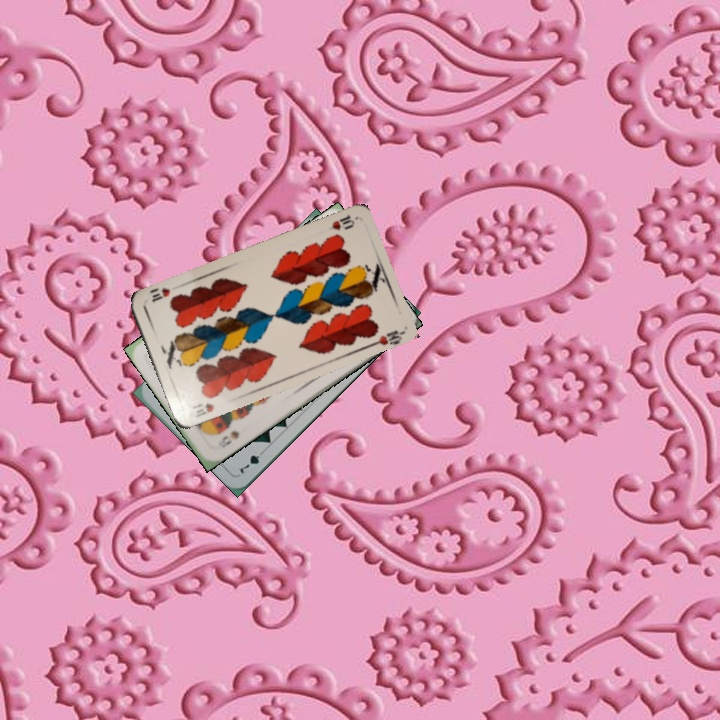G7: (234, 445, 268, 476)
H10: (328, 210, 357, 233), (188, 398, 217, 420)
S8: (217, 426, 242, 451)
